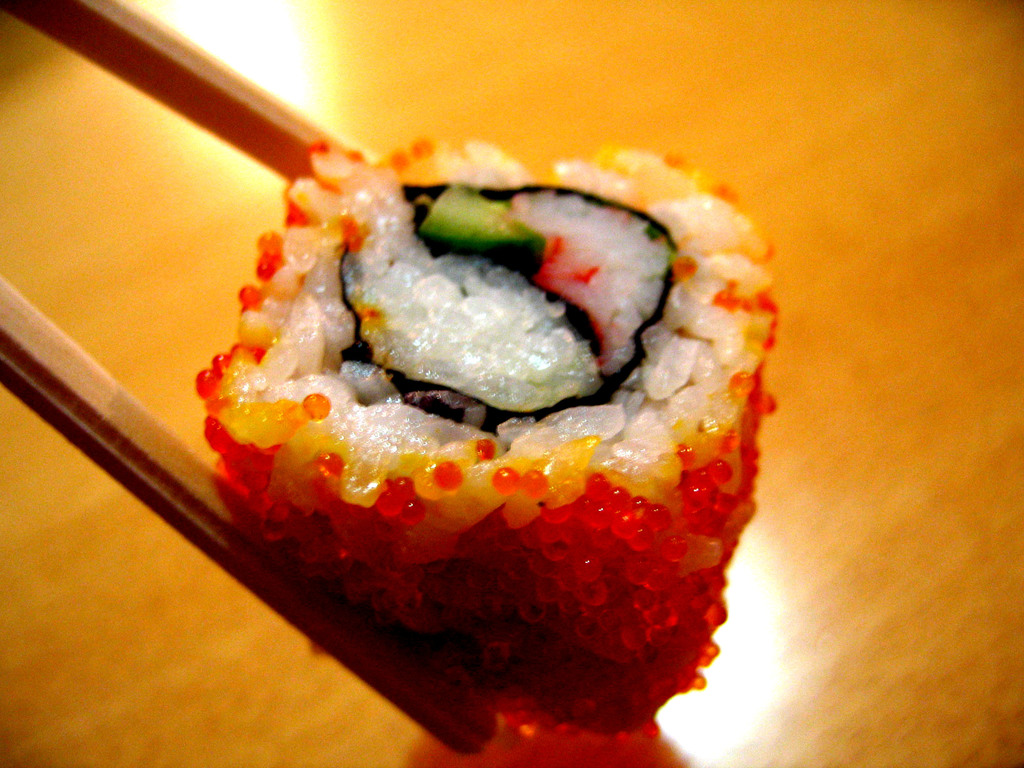sushi: (200, 140, 771, 733)
